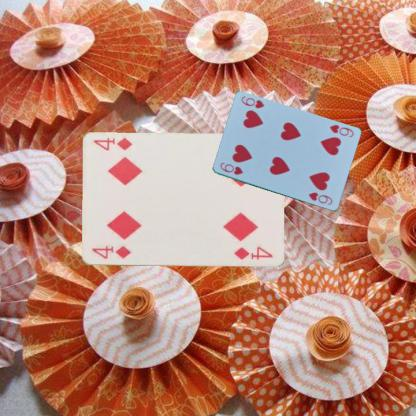4d: (89, 243, 132, 261)
6h: (327, 122, 355, 139), (217, 160, 244, 176)
